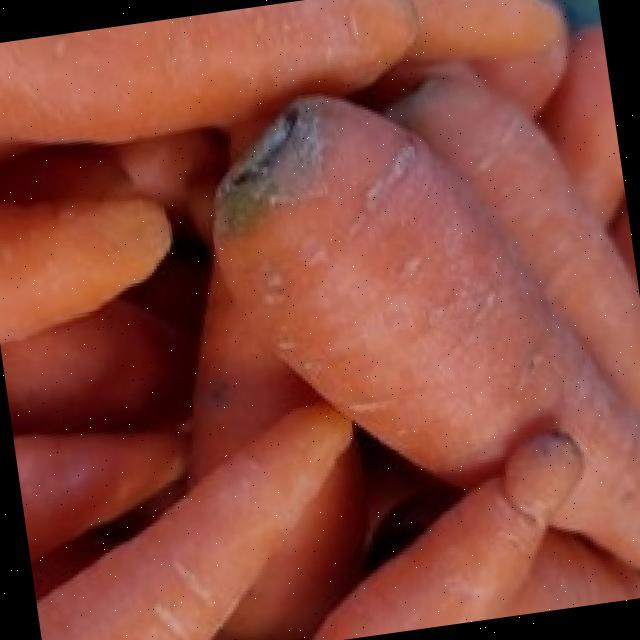carrot: (217, 100, 562, 482), (41, 404, 349, 640), (313, 434, 578, 640), (555, 557, 640, 602)
